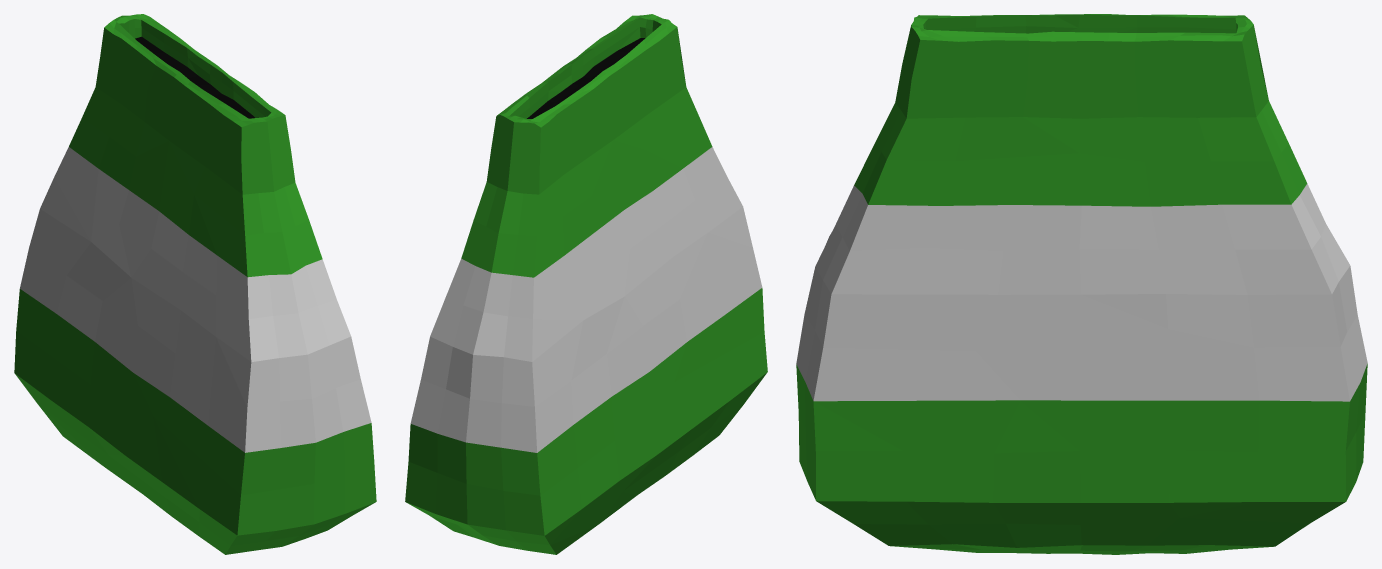
File: seed_bag.glb
3 renders of one model, left to right at view 1: azimuth 30°, elevation 25°; view 2: azimuth 150°, elevation 25°; view 3: azimuth 270°, elevation 25°, orthographic. The views are drawn at different scales.
Parts seen in each view (by area): view 1: SeedBag; view 2: SeedBag; view 3: SeedBag.
Boxes of the visible parts, x1=… form: SeedBag: x1=14, y1=14, x2=376, y2=554; SeedBag: x1=405, y1=14, x2=767, y2=554; SeedBag: x1=796, y1=14, x2=1367, y2=554.
Size of the model in its own units: 0.1786 by 0.5301 by 0.5321.
